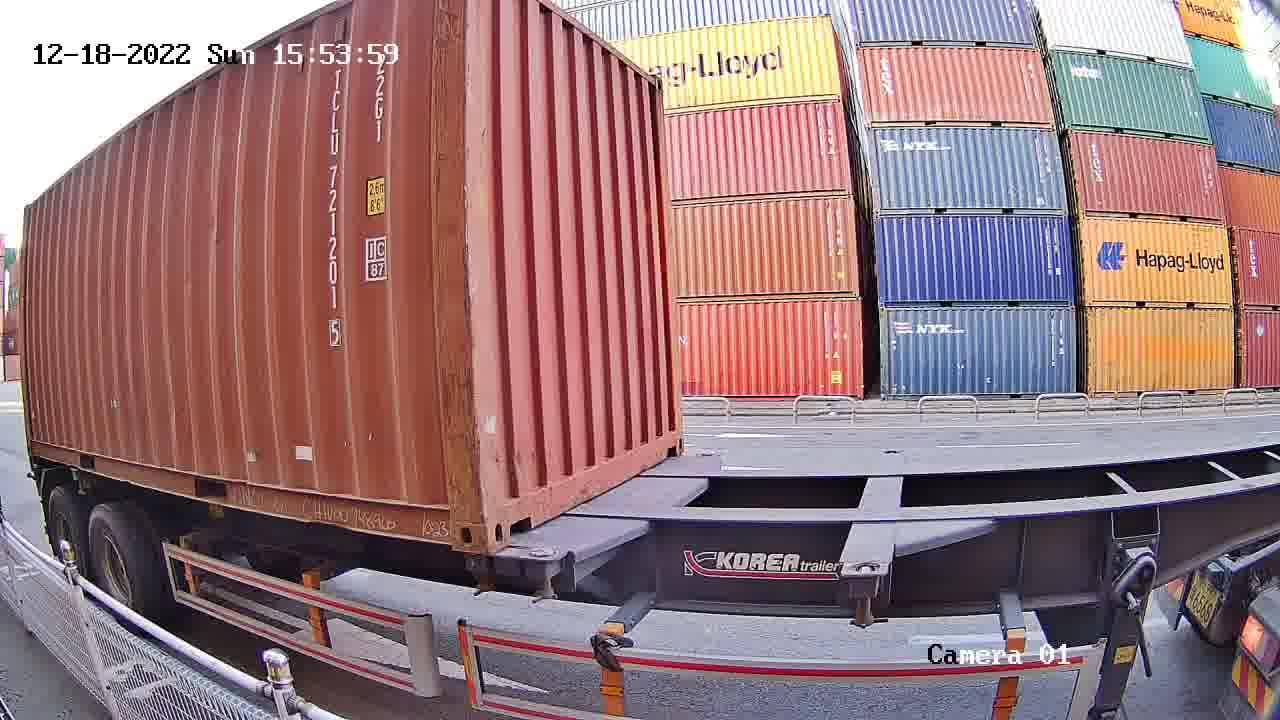Chassis: (527, 452, 721, 562)
Cone: (523, 545, 565, 603), (464, 557, 498, 600)
Hole_L: (483, 473, 547, 554)
Hole_R: (417, 485, 490, 554), (647, 409, 686, 464)
Tire: (87, 511, 144, 606), (47, 496, 83, 563)
